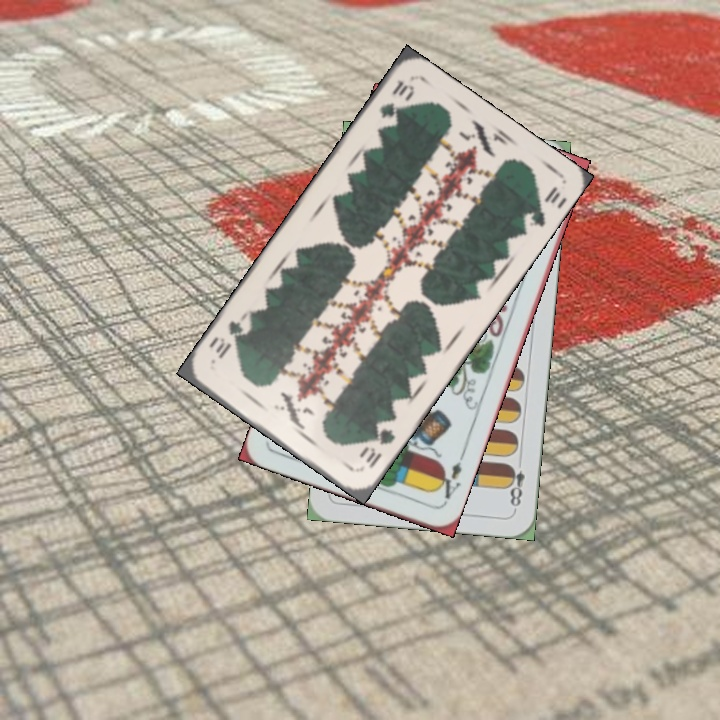E8: (503, 461, 528, 512)
EA: (432, 458, 465, 507)
G10: (354, 416, 398, 472), (375, 76, 417, 121)
